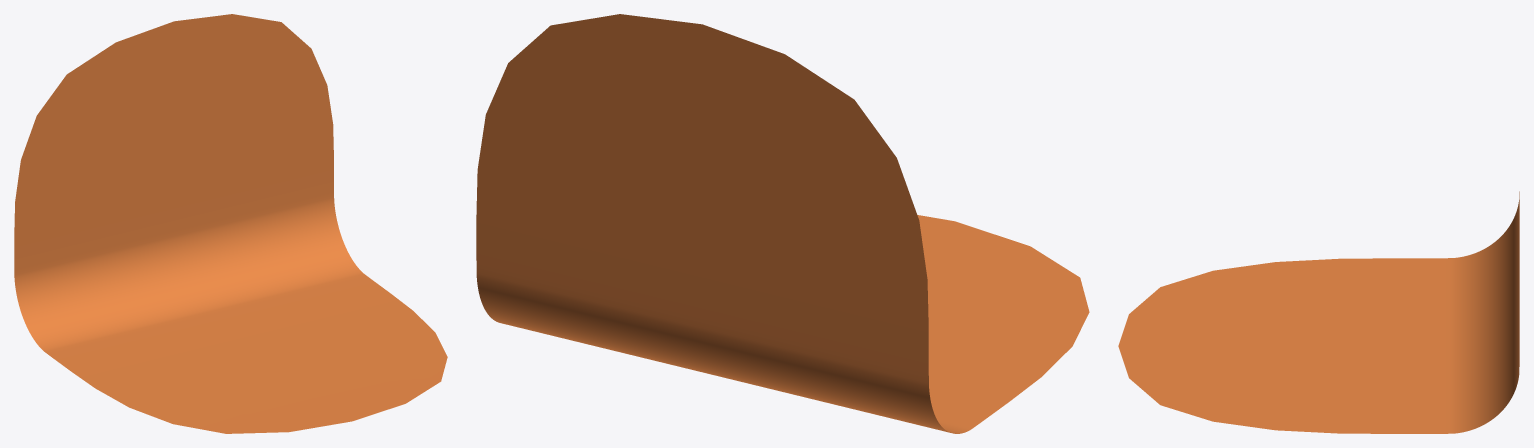
Rendered from floor.fbx.
The picture shows the model from 3 angles, left to right: view 1: azimuth 30°, elevation 25°; view 2: azimuth 150°, elevation 25°; view 3: azimuth 270°, elevation 25°; orthographic projection. The views are drawn at different scales.
Parts seen in each view (by area): view 1: Plane; view 2: Plane; view 3: Plane.
Boxes of the visible parts, x1,y1,x2,y2 form: Plane: (14, 14, 447, 433); Plane: (476, 14, 1089, 433); Plane: (1118, 191, 1519, 433).
Size of the model in its own units: 1468 by 1183 by 1418.
